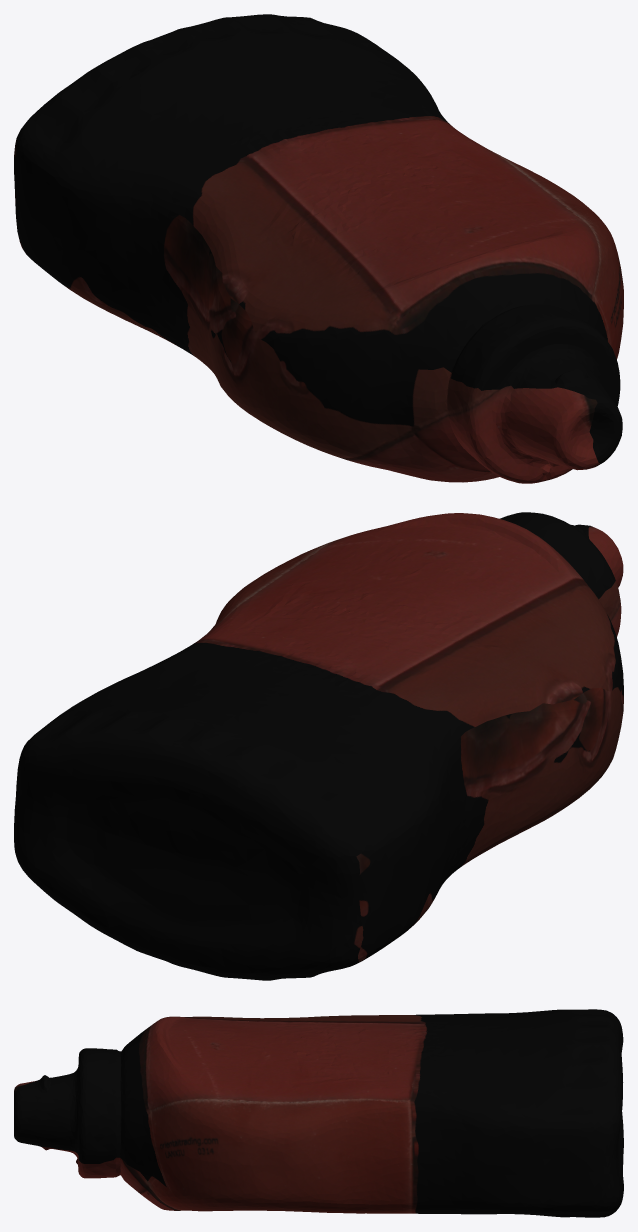
The picture shows the model from 3 angles, top to bottom: view 1: azimuth 30°, elevation 25°; view 2: azimuth 150°, elevation 25°; view 3: azimuth 270°, elevation 25°; orthographic projection. The views are drawn at different scales.
Bounding box in the file's own units: 0.0962 × 0.0577 × 0.1914.
